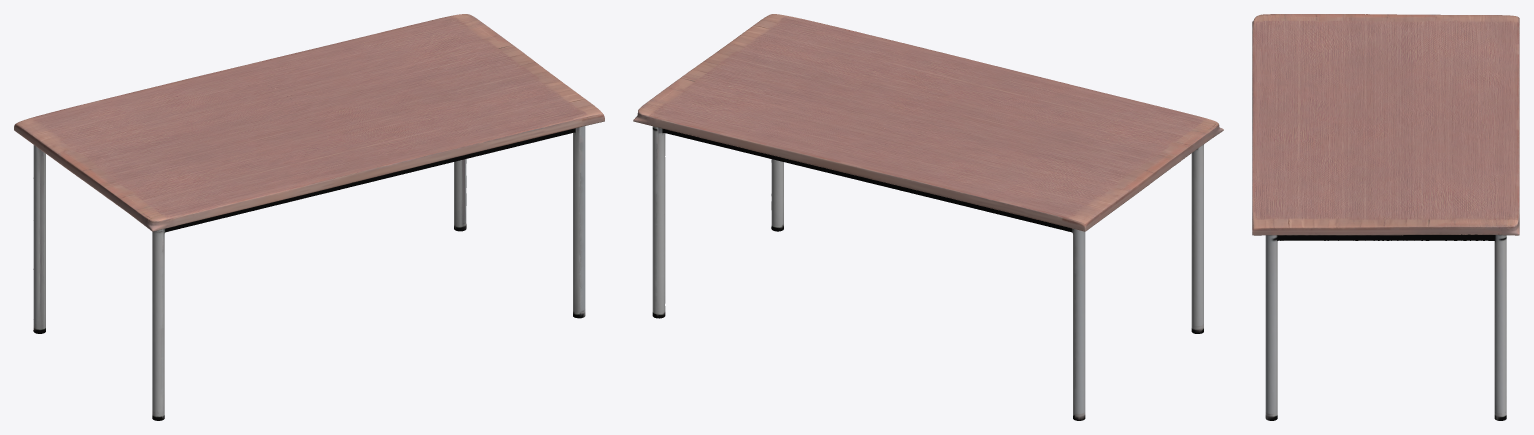
The model's file is Meshy_AI_Rectangular_Wood_Top__0519062725_image-to-3d-texture.fbx.
3 renders of one model, left to right at view 1: azimuth 30°, elevation 25°; view 2: azimuth 150°, elevation 25°; view 3: azimuth 270°, elevation 25°, orthographic. The views are drawn at different scales.
Visible parts, largest first — view 1: Mesh_0; view 2: Mesh_0; view 3: Mesh_0.
Boxes of the visible parts, x1=… form: Mesh_0: x1=14, y1=14, x2=604, y2=420; Mesh_0: x1=633, y1=14, x2=1223, y2=420; Mesh_0: x1=1252, y1=14, x2=1519, y2=420.
Size of the model in its own units: 190 by 83.05 by 101.
1 material, 1 textured.
